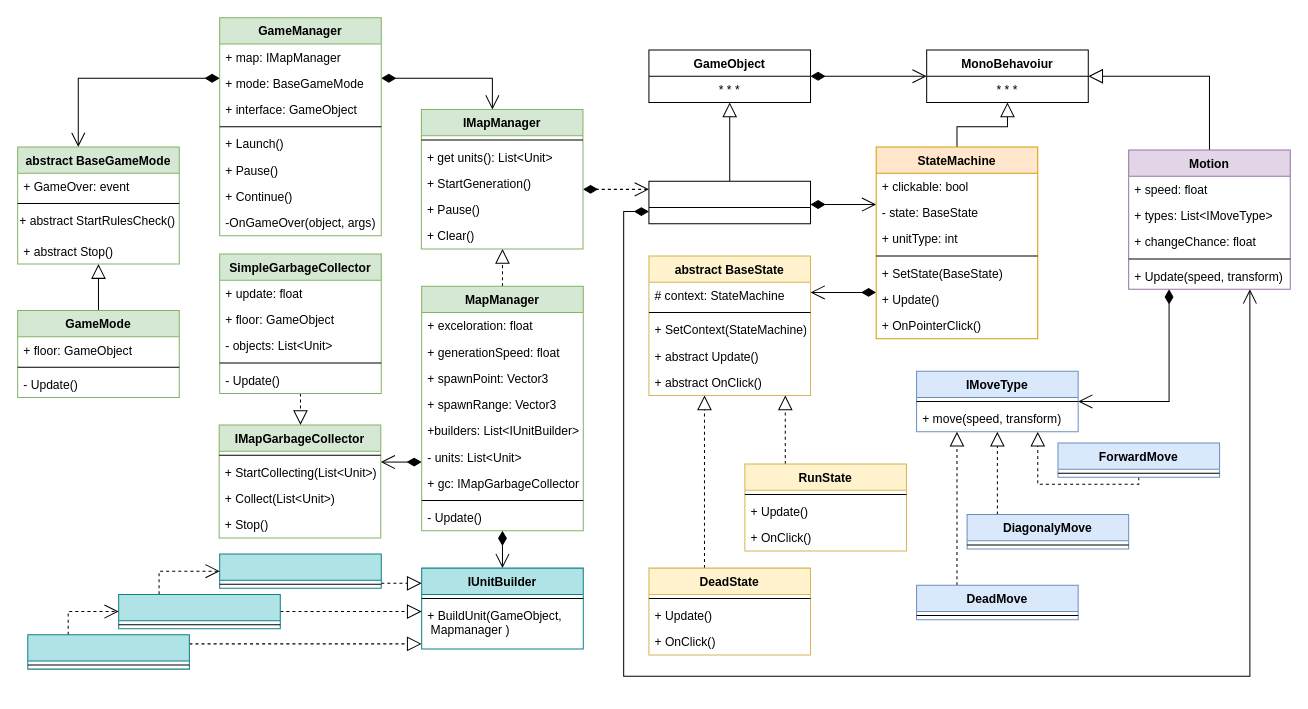
This 1308x709 diagram has some shape labels left out. The shapes that lost their labels are listed below. From the top down, each one's centre as x and y in pixels, then its label:
pixel 729 202: Unit
pixel 300 570: ATypeBuilder
pixel 199 611: BTypeBuilder
pixel 108 651: CTypeBuilder
